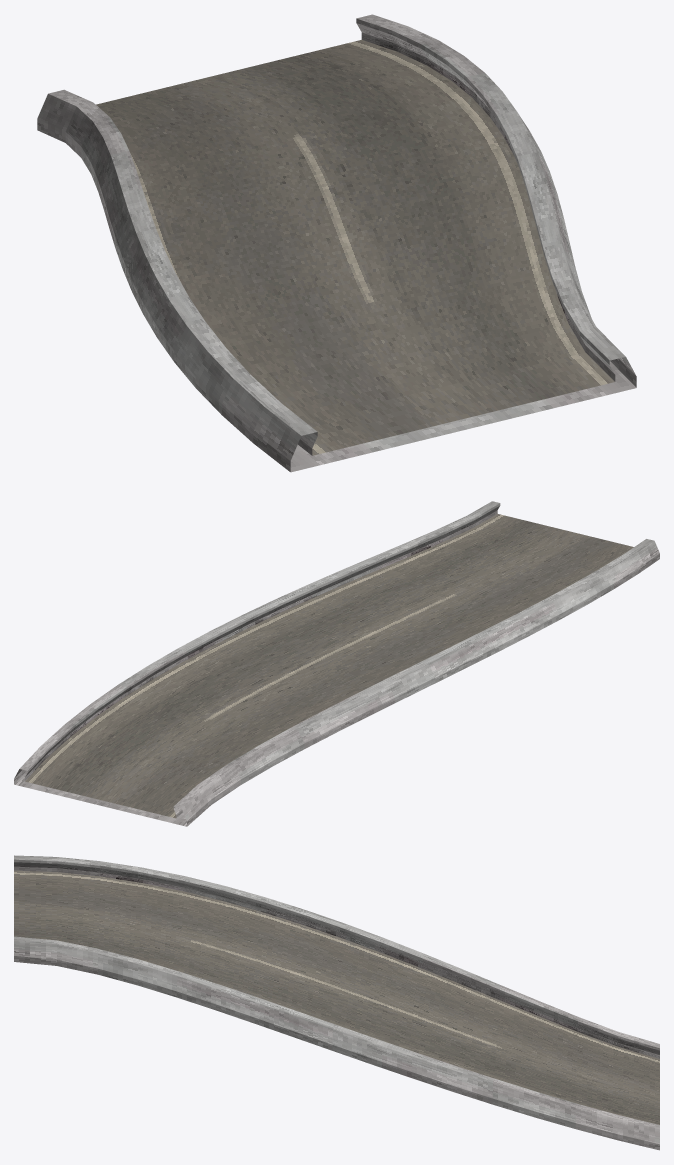
Rendered from road-Chicane-Flat-BiSlopeDown-Down2-Right1-Size3.glb.
The picture shows the model from 3 angles, top to bottom: view 1: azimuth 30°, elevation 25°; view 2: azimuth 150°, elevation 25°; view 3: azimuth 270°, elevation 25°; orthographic projection. The views are drawn at different scales.
Visible parts, largest first — view 1: road-Chicane-Flat-BiSlopeDown-Down2-Right1-Size3; view 2: road-Chicane-Flat-BiSlopeDown-Down2-Right1-Size3; view 3: road-Chicane-Flat-BiSlopeDown-Down2-Right1-Size3.
Boxes of the visible parts, x1,y1,x2,y2 form: road-Chicane-Flat-BiSlopeDown-Down2-Right1-Size3: (37,14,636,472); road-Chicane-Flat-BiSlopeDown-Down2-Right1-Size3: (14,501,659,826); road-Chicane-Flat-BiSlopeDown-Down2-Right1-Size3: (14,855,659,1150).
Bounding box in the file's own units: 2 × 0.5938 × 3.
2 materials, 2 textured.
